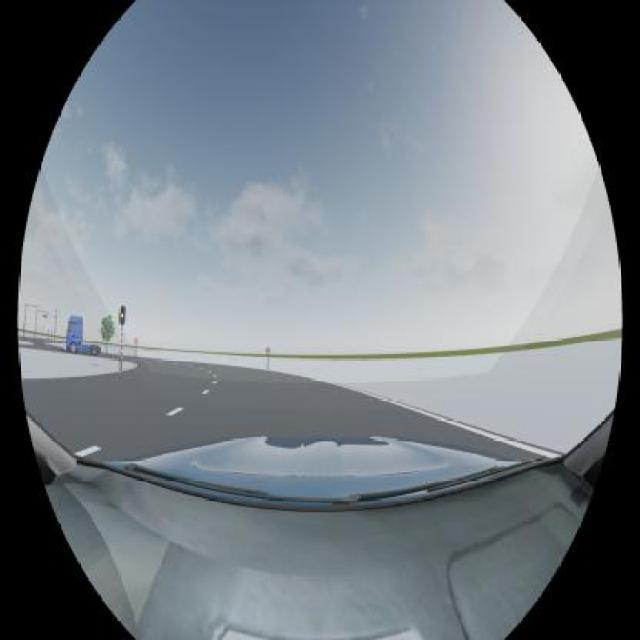forb_speed_over_80: (265, 347, 270, 353)
